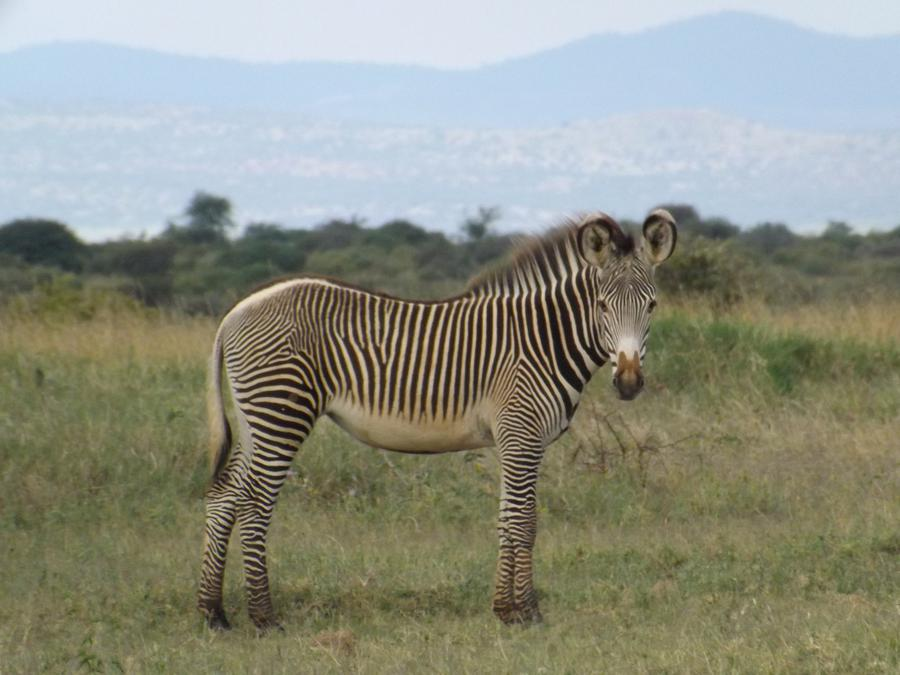zebra_grevys: (199, 259, 554, 451)
